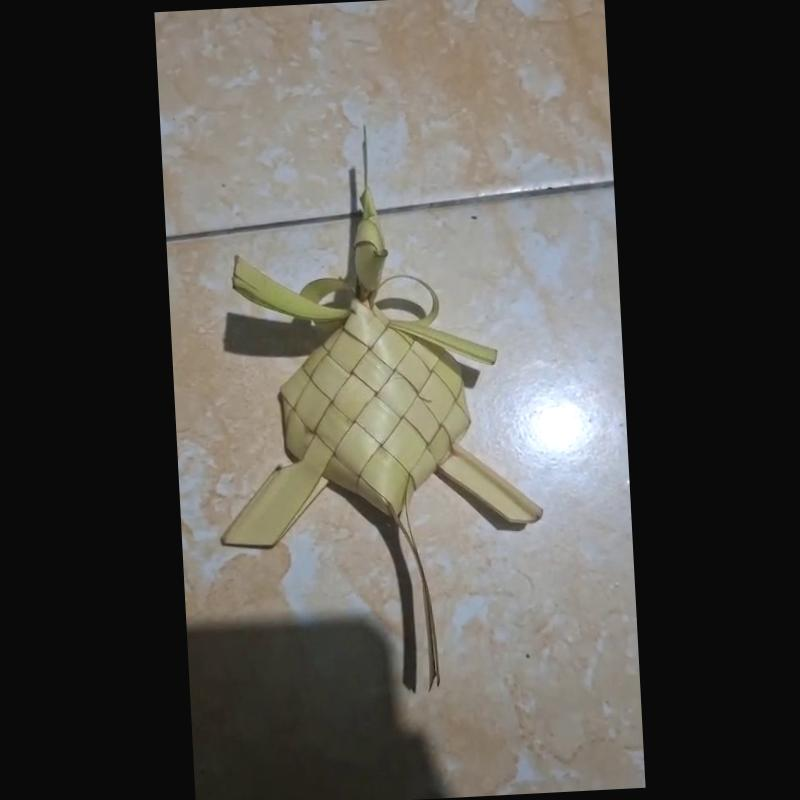Tipat Dampulan: (214, 125, 554, 708)
